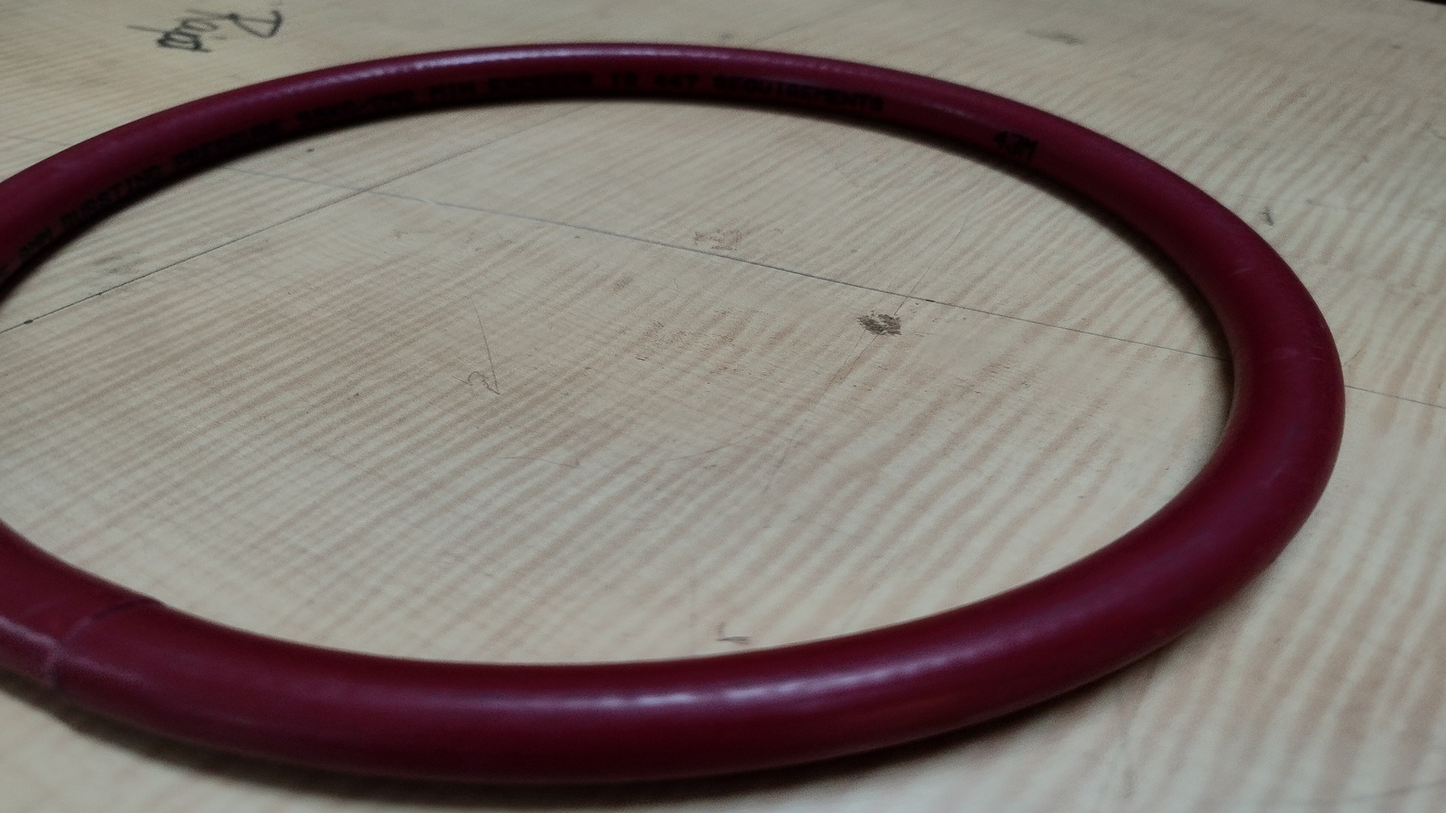Red ring: (2, 38, 1349, 780)
